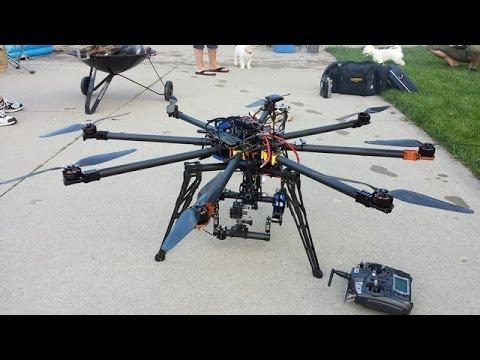drone: (43, 91, 452, 253)
